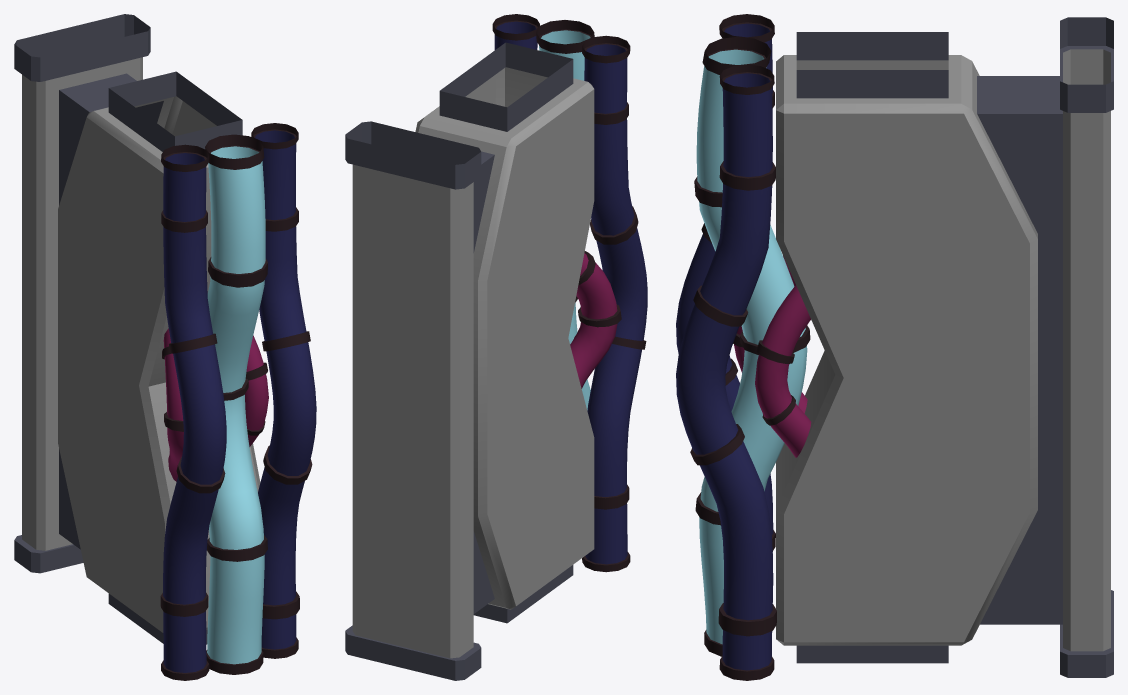
Rendered from OBJ_Pont.fbx.
3 renders of one model, left to right at view 1: azimuth 30°, elevation 25°; view 2: azimuth 150°, elevation 25°; view 3: azimuth 270°, elevation 25°, orthographic. The views are drawn at different scales.
Visible parts, largest first — view 1: Pont; view 2: Pont; view 3: Pont.
Boxes of the visible parts, <box> form: Pont: <box>14,14,316,680</box>; Pont: <box>345,14,647,680</box>; Pont: <box>676,14,1113,680</box>.
Bounding box in the file's own units: 269 × 1000 × 669.
